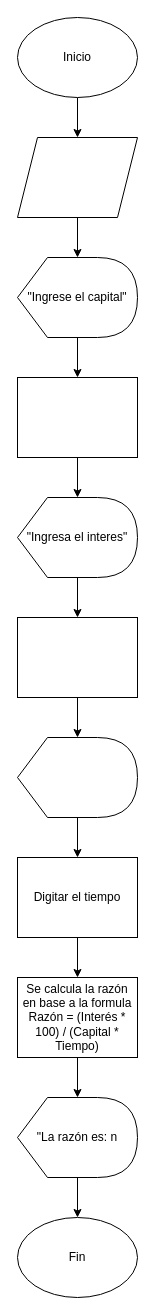
Image size: 155x1315. Some labels were removed from this diagram. The shapes that lost their labels are listed below. From the top down, each one's centre as x and y in pixels, then its label:
(77,177): Capital, Interés, Tiempo
(77,417): Digitar el capital
(77,657): Digitar el interes
(77,777): "Ingrese el tiempo"
